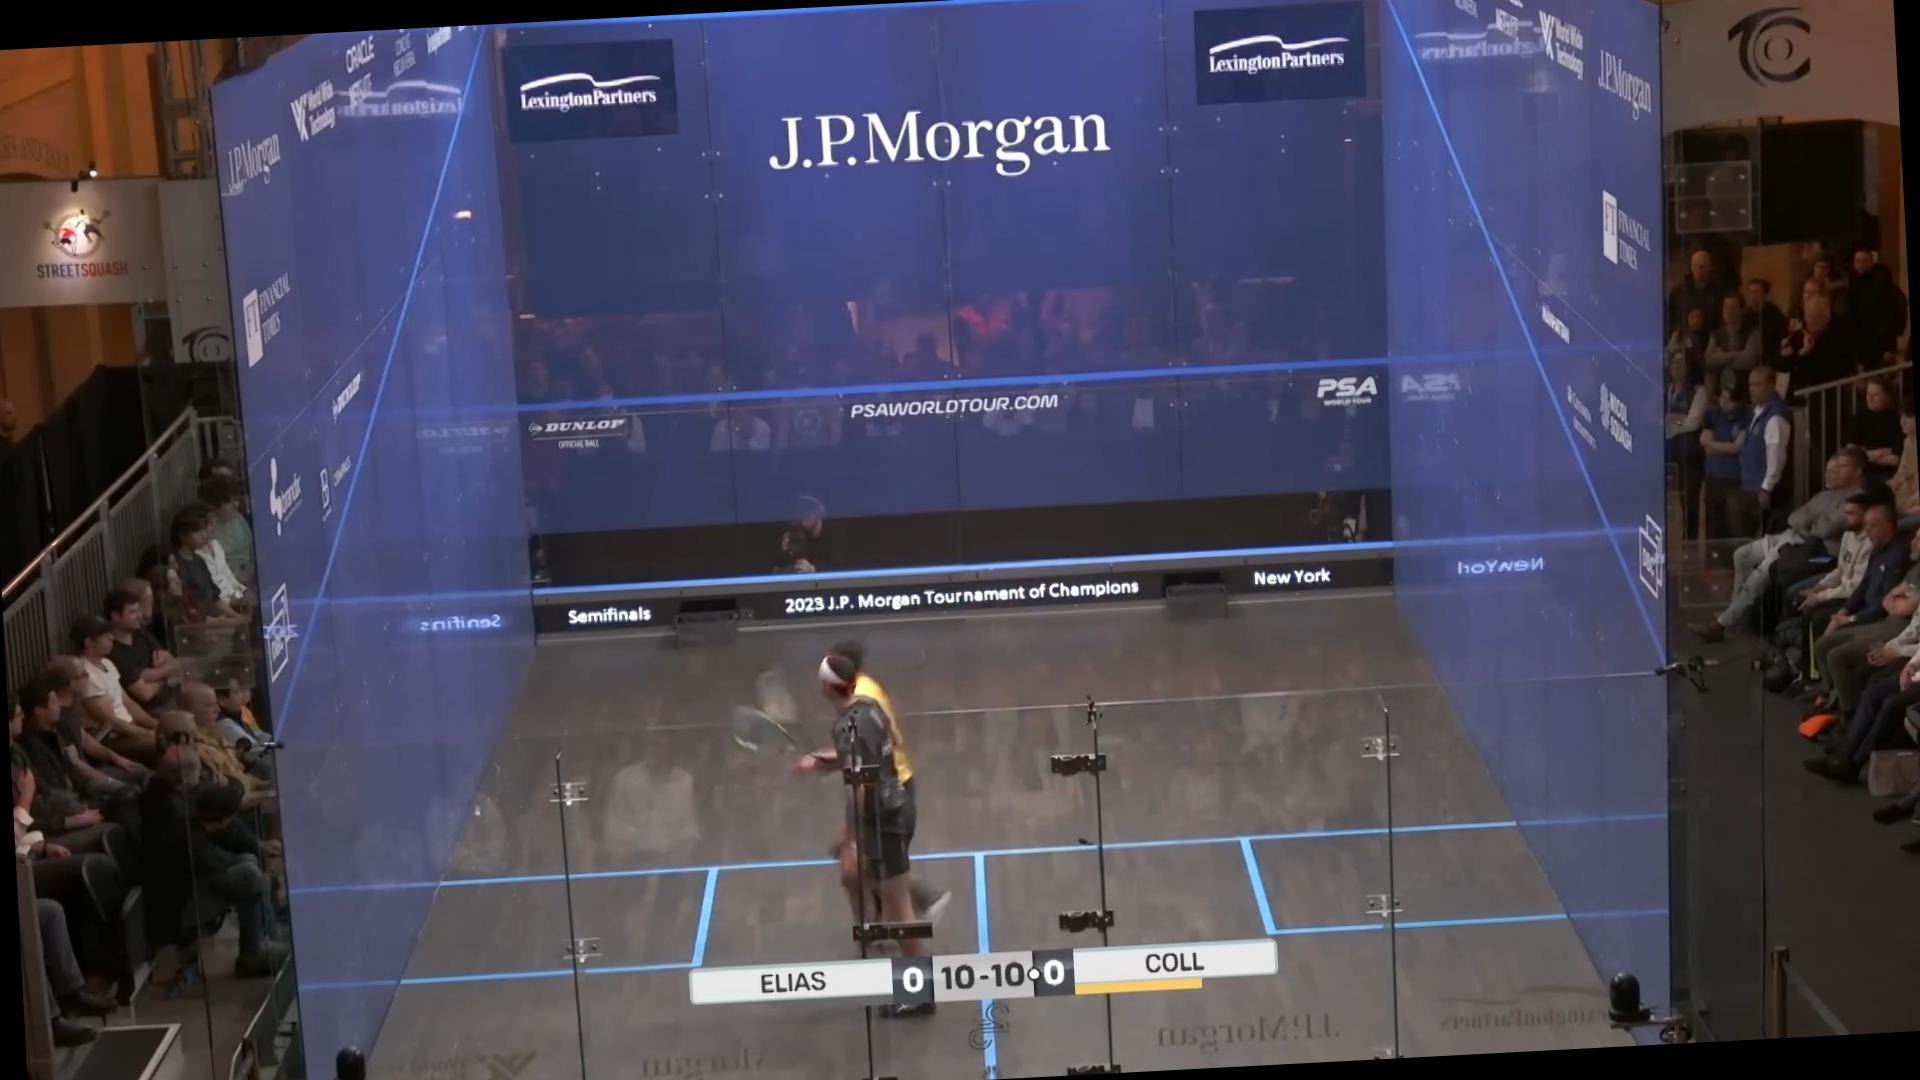Racket: (720, 691, 808, 769)
